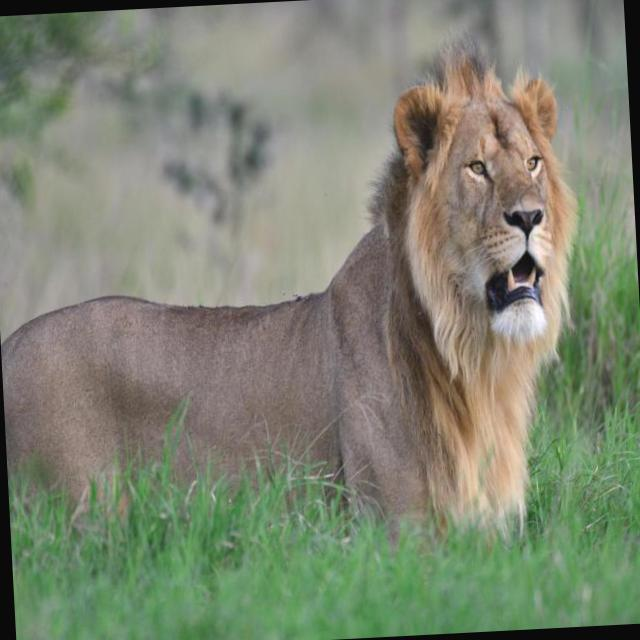lions: (0, 36, 635, 576)
